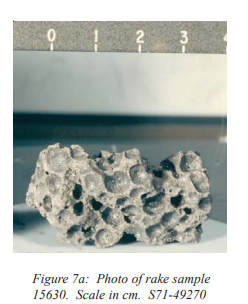Basalt: (9, 121, 224, 250)
